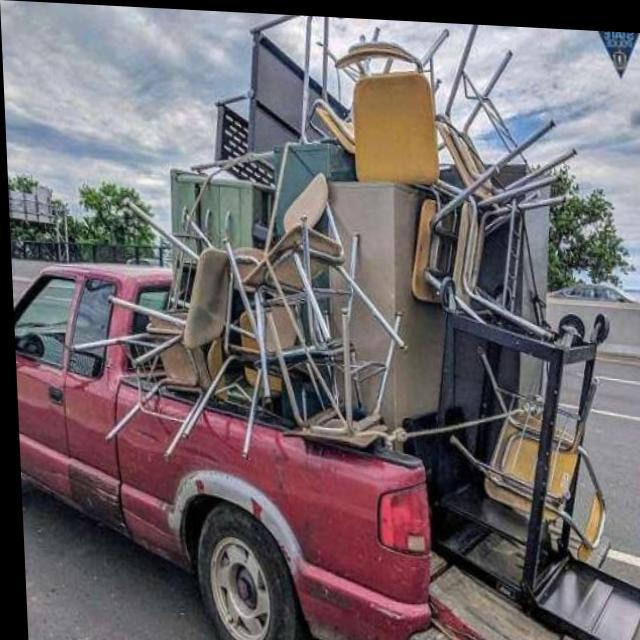uncovered: (8, 21, 578, 640)
